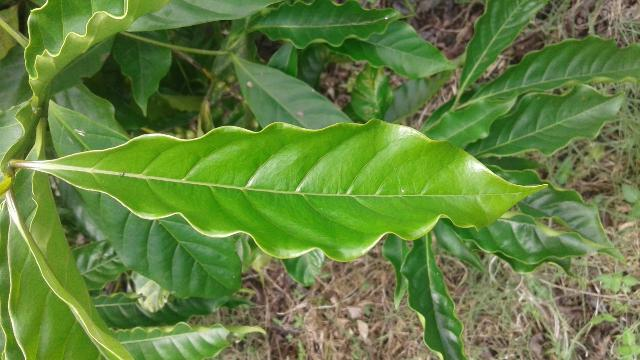healthy: (37, 115, 555, 268)
